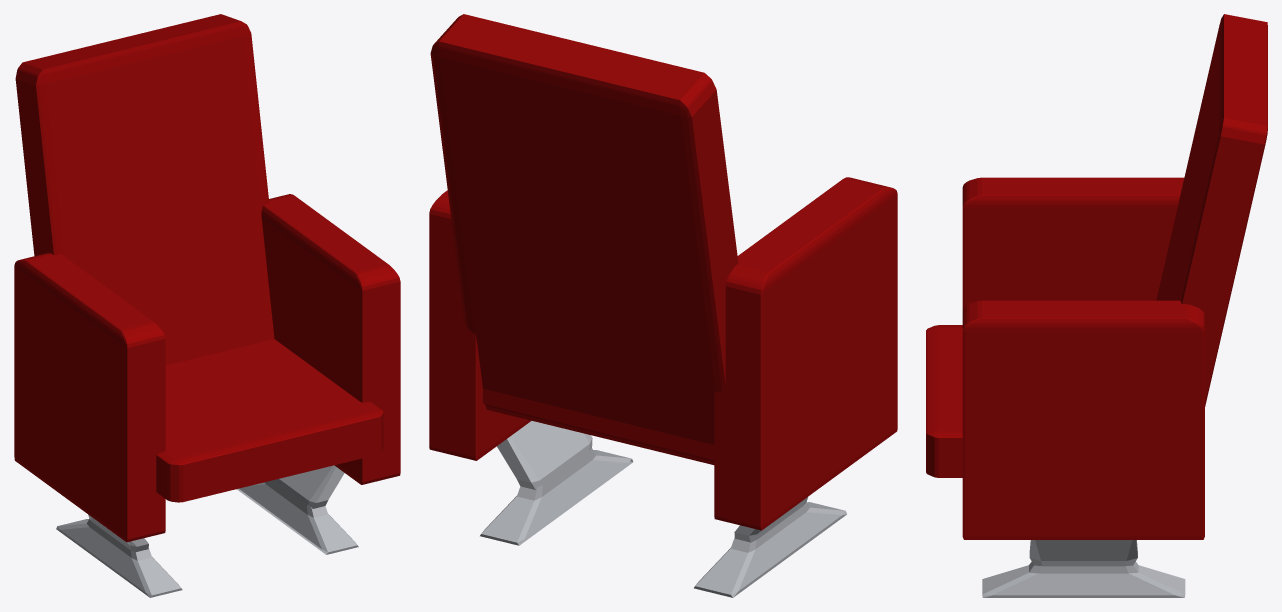
The model's file is Sessel.glb.
3 views of the same model, side by side, from view 1: azimuth 30°, elevation 25°; view 2: azimuth 150°, elevation 25°; view 3: azimuth 270°, elevation 25° (orthographic). The views are drawn at different scales.
Visible parts, largest first — view 1: Sitz; view 2: Sitz; view 3: Sitz.
Part boxes in pixels (x1,y1,x2,y2): Sitz: [14, 14, 400, 597]; Sitz: [429, 14, 897, 597]; Sitz: [926, 14, 1267, 597].
Bounding box in the file's own units: 2.8 × 4.34 × 2.82.
